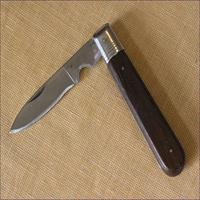knife: (12, 11, 181, 175), (6, 16, 145, 138)
